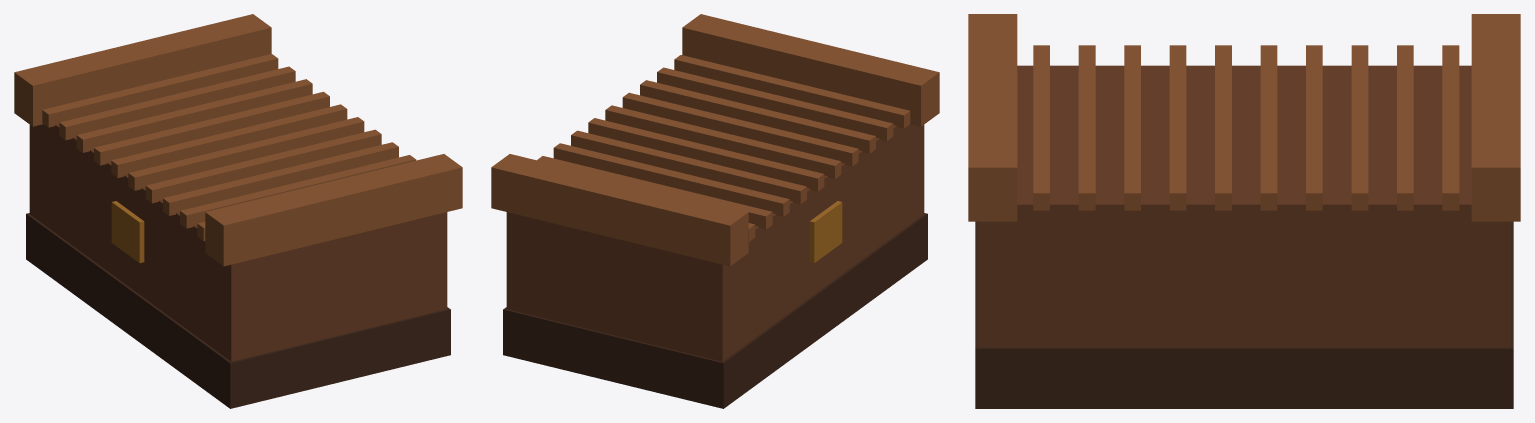
File: shrine-offering-box.obj
3 views of the same model, side by side, from view 1: azimuth 30°, elevation 25°; view 2: azimuth 150°, elevation 25°; view 3: azimuth 270°, elevation 25° (orthographic). The views are drawn at different scales.
Bounding box in the file's own units: 1.04 × 0.78 × 1.58.
